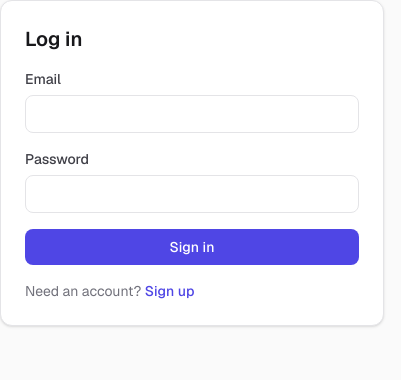
Test: LoginForm › renders the error the action returns
Type "maya@example.com" into the field labelled "Email".
click(192, 114); type("maya@example.com")  # box top-left (25, 95), bottom-right (359, 133)
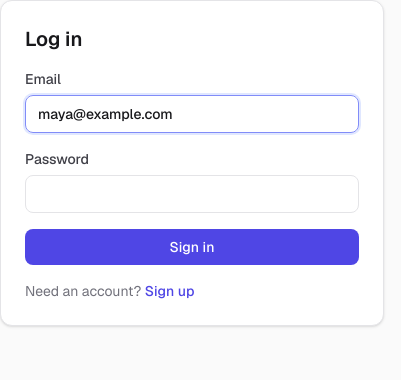
Type "supersecret" into the password field labelled "Password".
click(192, 194); type("supersecret")  # box top-left (25, 175), bottom-right (359, 213)
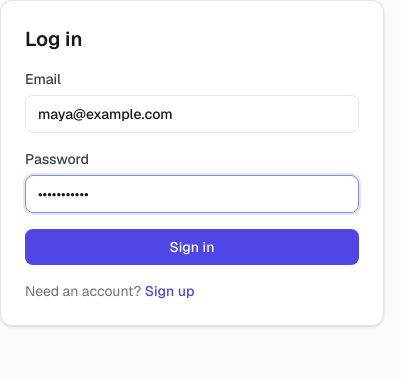
Click the button "Sign in".
click(192, 247)  # box top-left (25, 229), bottom-right (359, 265)
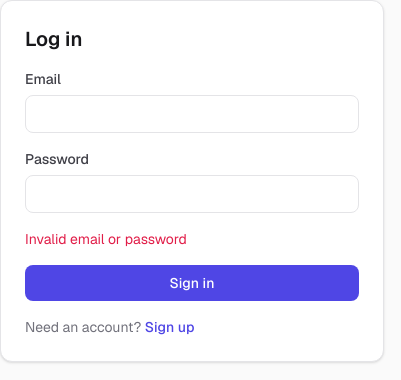
Check: the text "Invalid email or password" is shown, box top-left (25, 230), bottom-right (187, 248)
